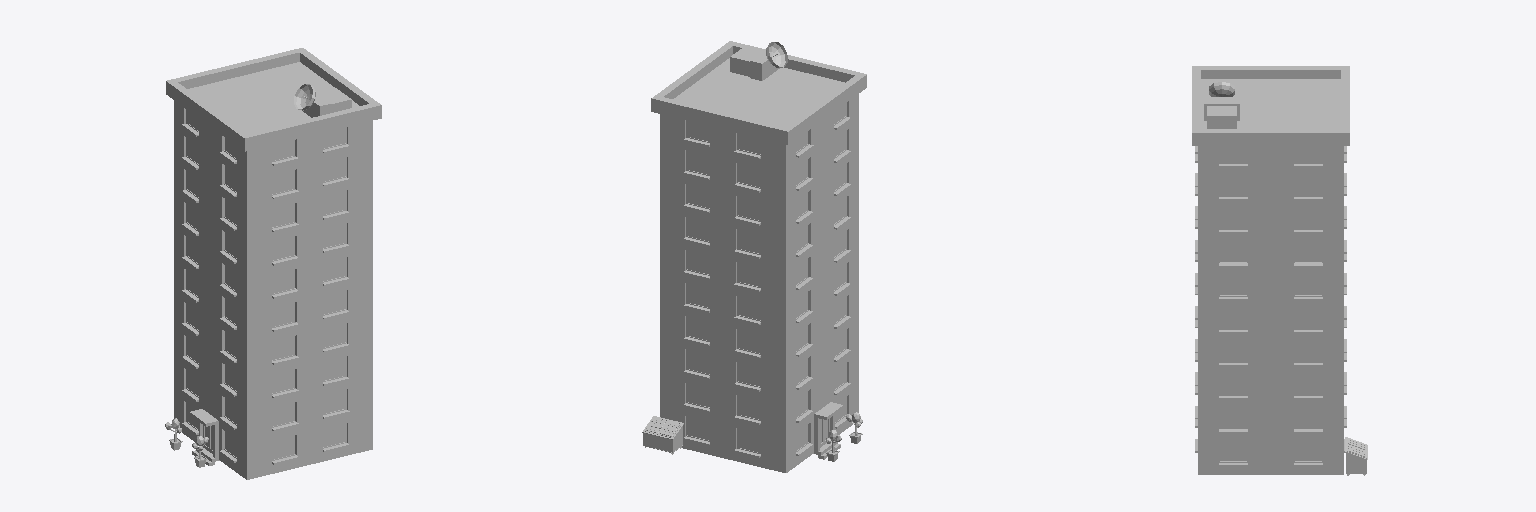
Rendered from building1.obj.
The picture shows the model from 3 angles: view 1: azimuth 30°, elevation 25°; view 2: azimuth 150°, elevation 25°; view 3: azimuth 270°, elevation 25°; orthographic projection.
Visible parts, largest first — view 1: Condominio.001, Tetto.005, Entrata.001; view 2: Condominio.001, Tetto.005, Dumpster.006, Entrata.001; view 3: Condominio.001, Tetto.005, Dumpster.006.
Boxes of the visible parts, <box> form: Condominio.001: <box>174,101,372,479</box>; Tetto.005: <box>166,48,381,151</box>; Entrata.001: <box>190,409,219,465</box>; Condominio.001: <box>660,94,858,472</box>; Tetto.005: <box>651,41,866,144</box>; Dumpster.006: <box>642,416,683,454</box>; Entrata.001: <box>814,402,843,459</box>; Condominio.001: <box>1195,146,1346,474</box>; Tetto.005: <box>1192,66,1349,145</box>; Dumpster.006: <box>1345,437,1367,475</box>.
Size of the model in its own units: 14.33 by 31.21 by 13.33.